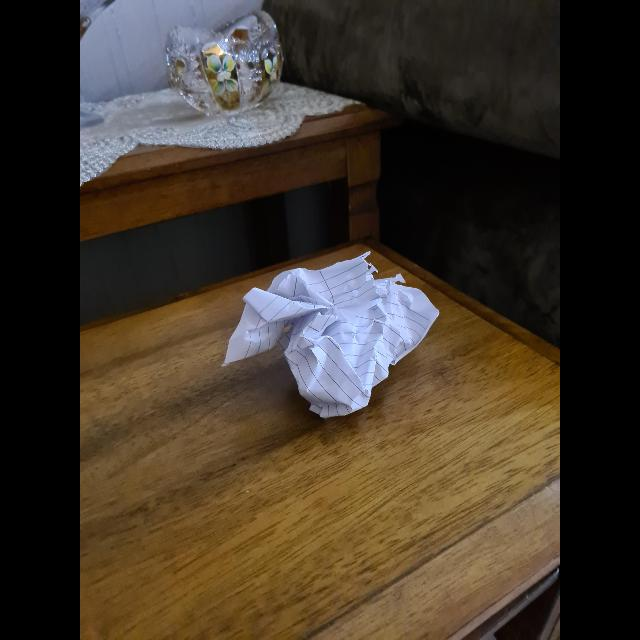scrap_paper: (236, 255, 434, 420)
